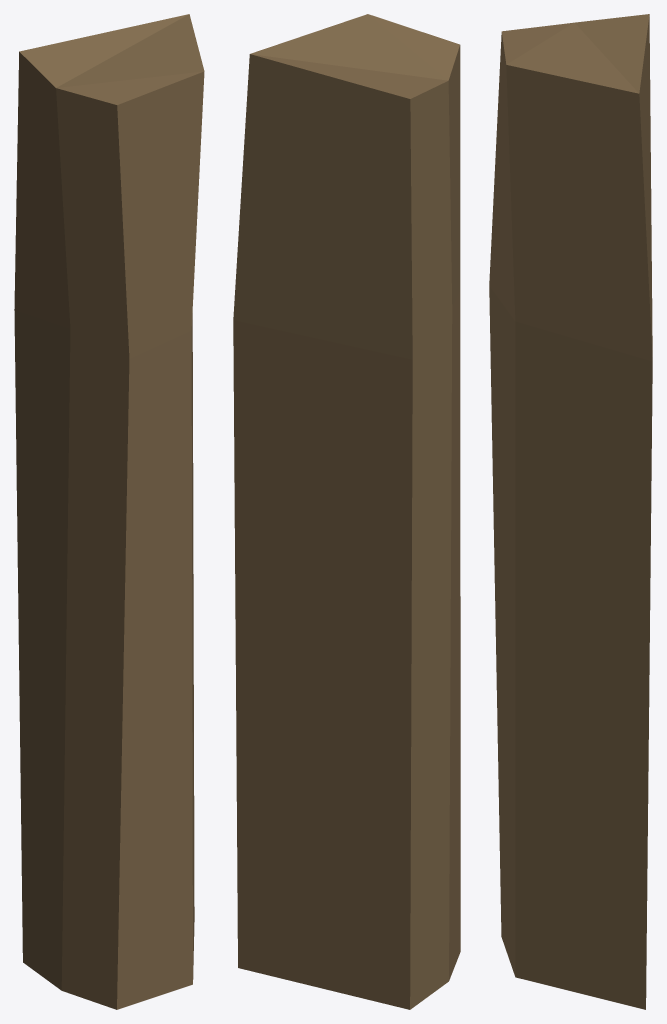
Rendered from Rock.fbx.
3 renders of one model, left to right at view 1: azimuth 30°, elevation 25°; view 2: azimuth 150°, elevation 25°; view 3: azimuth 270°, elevation 25°, orthographic.
Visible parts, largest first — view 1: Rock; view 2: Rock; view 3: Rock.
Boxes of the visible parts, <box> form: Rock: <box>14,14,204,1009</box>; Rock: <box>233,14,460,1009</box>; Rock: <box>489,14,652,1009</box>.
Size of the model in its own units: 105 by 516 by 83.49.
